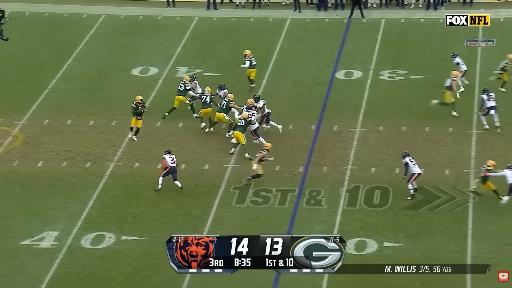Helmet: (134, 94, 143, 103), (217, 83, 226, 91), (486, 160, 496, 167), (245, 49, 253, 57), (451, 50, 459, 58), (254, 95, 261, 103), (246, 99, 254, 106), (243, 112, 251, 119), (402, 151, 410, 158), (449, 72, 458, 78), (265, 143, 272, 150), (165, 149, 172, 155), (190, 75, 197, 81), (227, 95, 235, 100), (184, 76, 190, 82), (204, 88, 211, 93), (507, 54, 512, 61), (483, 88, 488, 95), (507, 164, 511, 170)
Jersey: (490, 170, 511, 184), (403, 157, 421, 173), (246, 111, 258, 130), (481, 165, 493, 184), (132, 101, 146, 117), (235, 119, 251, 133), (453, 56, 467, 71), (481, 93, 496, 107), (177, 81, 191, 96), (218, 99, 232, 114), (257, 100, 271, 114), (201, 94, 213, 109), (163, 154, 176, 167), (258, 149, 269, 164), (444, 77, 456, 90), (191, 81, 202, 94), (246, 55, 256, 69), (499, 60, 510, 72), (217, 89, 228, 98), (243, 104, 253, 112)
Player: (163, 76, 197, 118), (206, 94, 239, 137), (431, 71, 459, 116), (230, 113, 255, 159), (245, 143, 273, 183), (191, 87, 217, 129), (156, 150, 183, 190), (253, 95, 282, 132), (485, 164, 511, 203), (243, 99, 266, 143), (472, 161, 500, 197), (402, 152, 421, 199), (479, 88, 499, 129), (130, 96, 147, 141), (492, 55, 511, 91), (451, 52, 468, 92), (241, 50, 256, 86), (190, 76, 202, 95), (190, 76, 202, 94), (216, 84, 228, 99)
